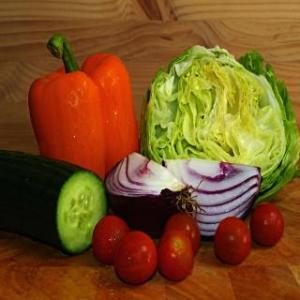bell_pepper: (34, 26, 134, 202)
cabbage: (139, 41, 299, 211)
cucumber: (0, 140, 114, 252)
onion: (101, 144, 197, 240), (161, 154, 269, 238)
tomato: (110, 228, 158, 282), (92, 211, 128, 269), (248, 195, 286, 247), (159, 226, 197, 278), (212, 215, 250, 265), (164, 207, 202, 247)
